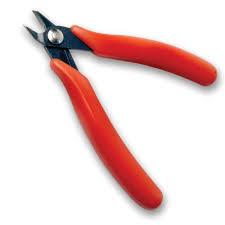pliers: (21, 7, 217, 210)
